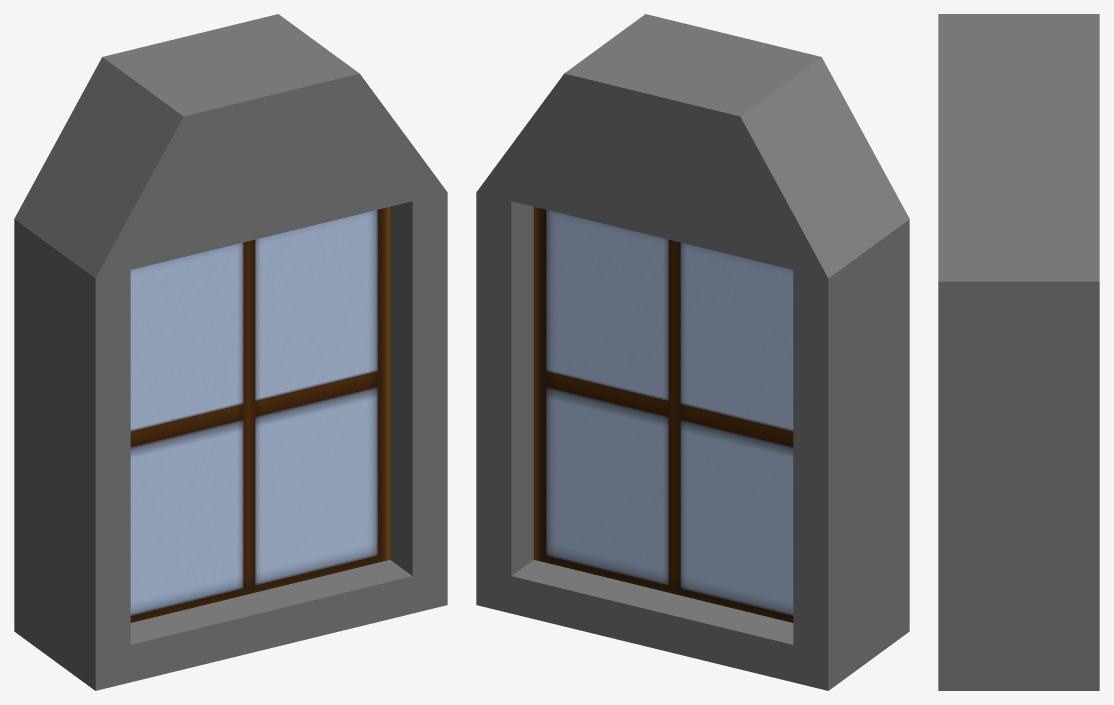
File: window1.obj
3 renders of one model, left to right at view 1: azimuth 30°, elevation 25°; view 2: azimuth 150°, elevation 25°; view 3: azimuth 270°, elevation 25°, orthographic.
Parts seen in each view (by area): view 1: Object.1, Object.2, Object.4, Object.3, Object.5; view 2: Object.1, Object.2, Object.4, Object.3, Object.5; view 3: Object.5, Object.2, Object.3.
Boxes of the visible parts, x1=… form: Object.1: x1=130, y1=207, x2=390, y2=622; Object.2: x1=14, y1=14, x2=447, y2=278; Object.4: x1=14, y1=219, x2=130, y2=653; Object.3: x1=14, y1=560, x2=447, y2=690; Object.5: x1=390, y1=192, x2=447, y2=575; Object.1: x1=533, y1=207, x2=793, y2=622; Object.2: x1=476, y1=14, x2=909, y2=278; Object.4: x1=793, y1=219, x2=909, y2=653; Object.3: x1=476, y1=560, x2=909, y2=690; Object.5: x1=476, y1=192, x2=533, y2=575; Object.5: x1=938, y1=281, x2=1099, y2=653; Object.2: x1=938, y1=14, x2=1099, y2=281; Object.3: x1=938, y1=653, x2=1099, y2=690.
Bounding box in the file's own units: 0.6667 × 1 × 0.2667.
